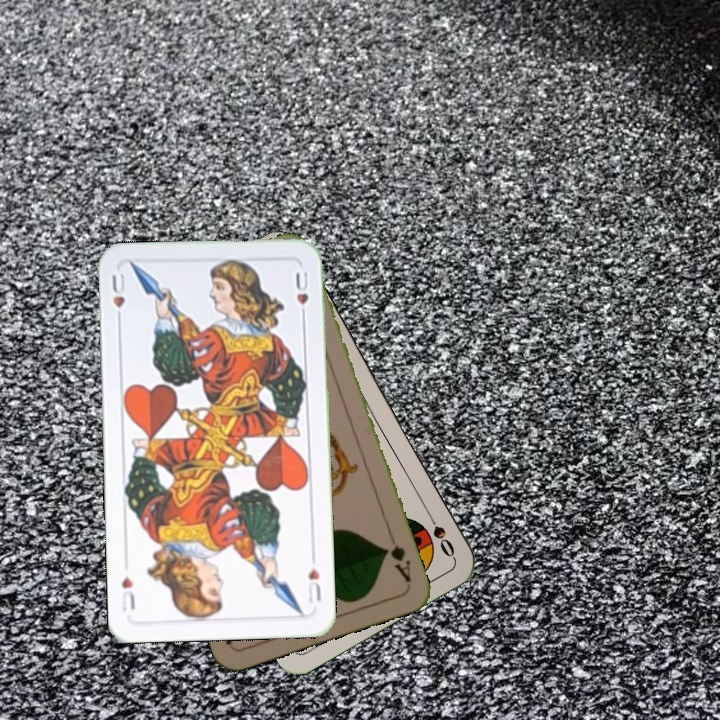GA: (381, 529, 414, 585)
HU: (108, 268, 128, 327), (304, 564, 323, 605)
SO: (422, 505, 458, 560)
